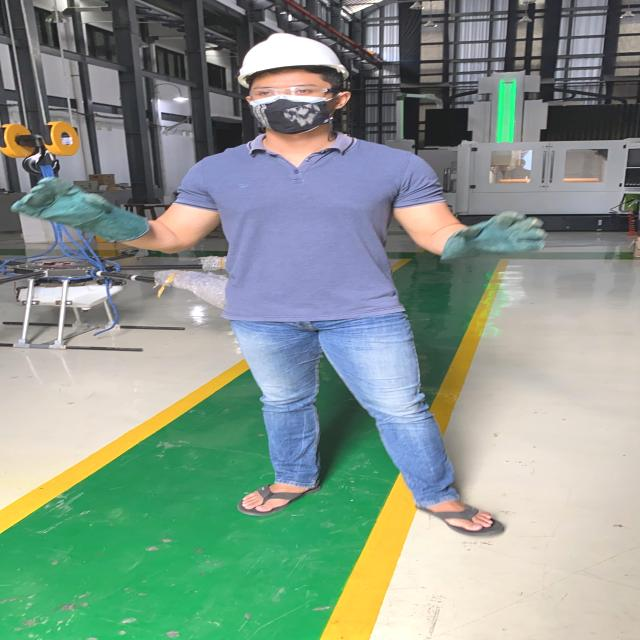face_mask: (246, 82, 339, 134)
glasses: (246, 84, 350, 101)
hand_glove: (10, 172, 124, 236), (440, 205, 556, 263)
head_helmet: (231, 31, 349, 83)
person: (16, 24, 548, 549)
